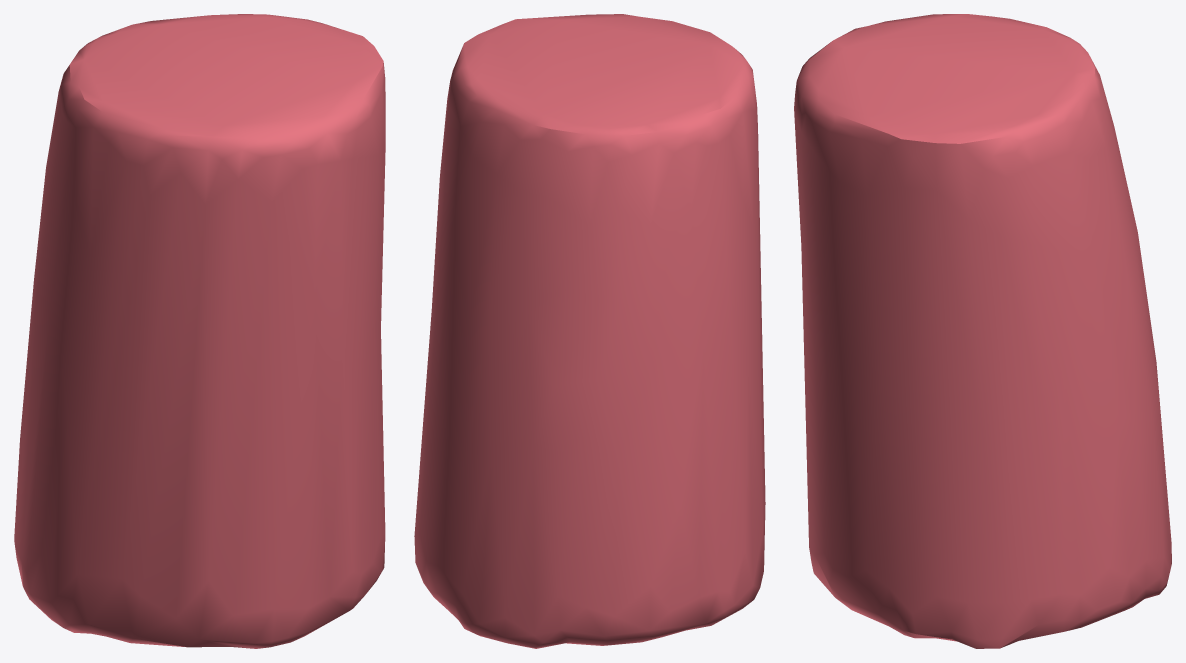
The model's file is fma4720_fj3645.glb.
3 views of the same model, side by side, from view 1: azimuth 30°, elevation 25°; view 2: azimuth 150°, elevation 25°; view 3: azimuth 270°, elevation 25° (orthographic). The views are drawn at different scales.
Visible parts, largest first — view 1: FMA4720_FJ3645; view 2: FMA4720_FJ3645; view 3: FMA4720_FJ3645.
Part boxes in pixels (bbox=[...]): FMA4720_FJ3645: bbox=[14, 14, 385, 648]; FMA4720_FJ3645: bbox=[414, 14, 765, 648]; FMA4720_FJ3645: bbox=[794, 14, 1171, 648].
Size of the model in its own units: 0.0225 by 0.035 by 0.0237.
